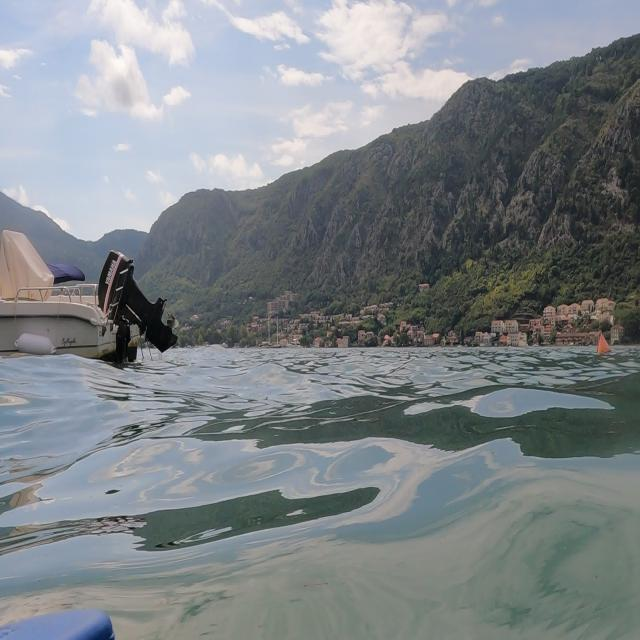boat: (1, 225, 179, 367)
buoy: (592, 326, 618, 364)
